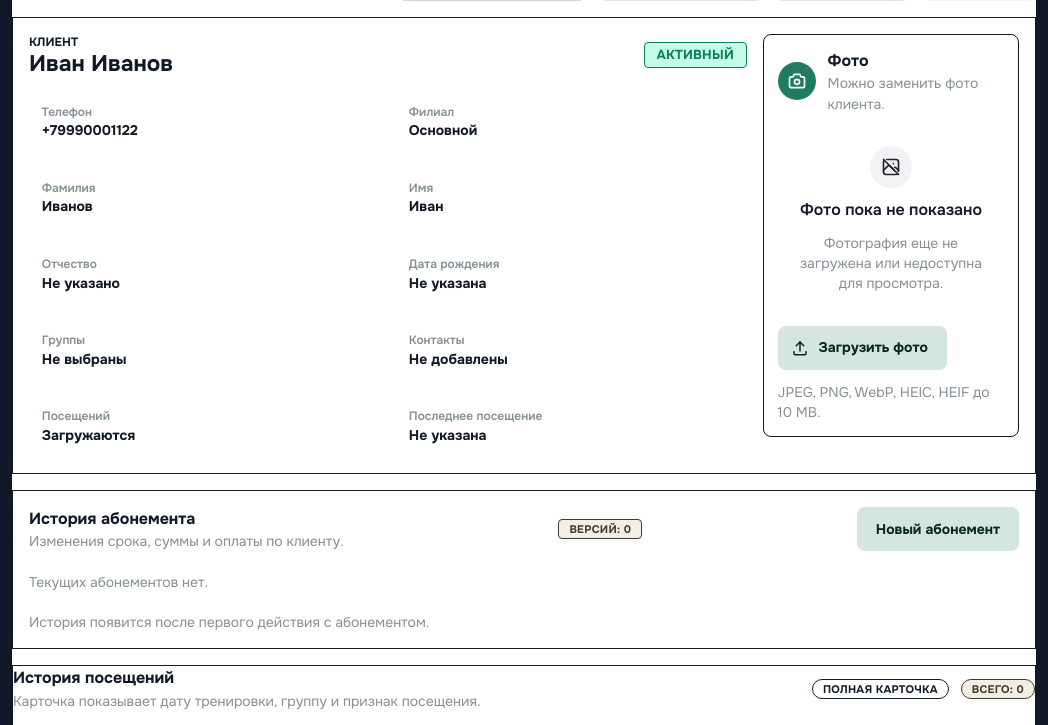
Test: ClientDetailScreen membership purchase form › loads eligible catalog options for a purchase
The width and height of the screenshot is (1048, 725).
Click the button "Новый абонемент". click: x=938, y=529
box: [857, 507, 1019, 551]
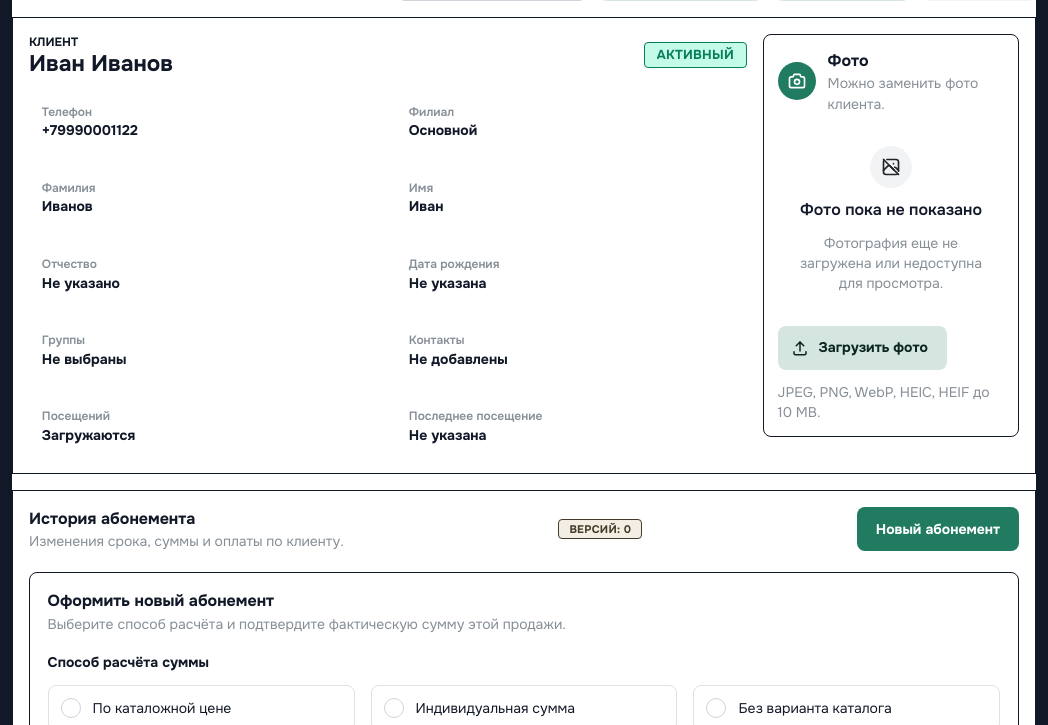
Click the radio button labelled "По каталожной цене". click: x=71, y=708
box: [61, 698, 81, 718]
(page scrolled)
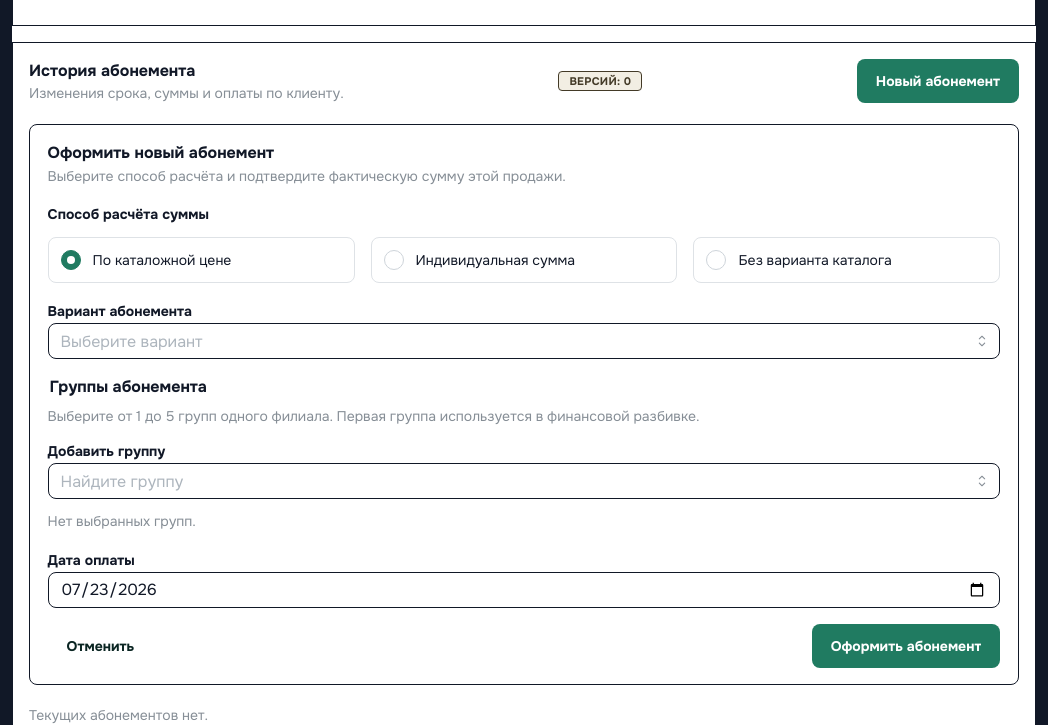
Now the dropdown labelled "Вариант абонемента" is shown, box [48, 323, 1000, 359]
